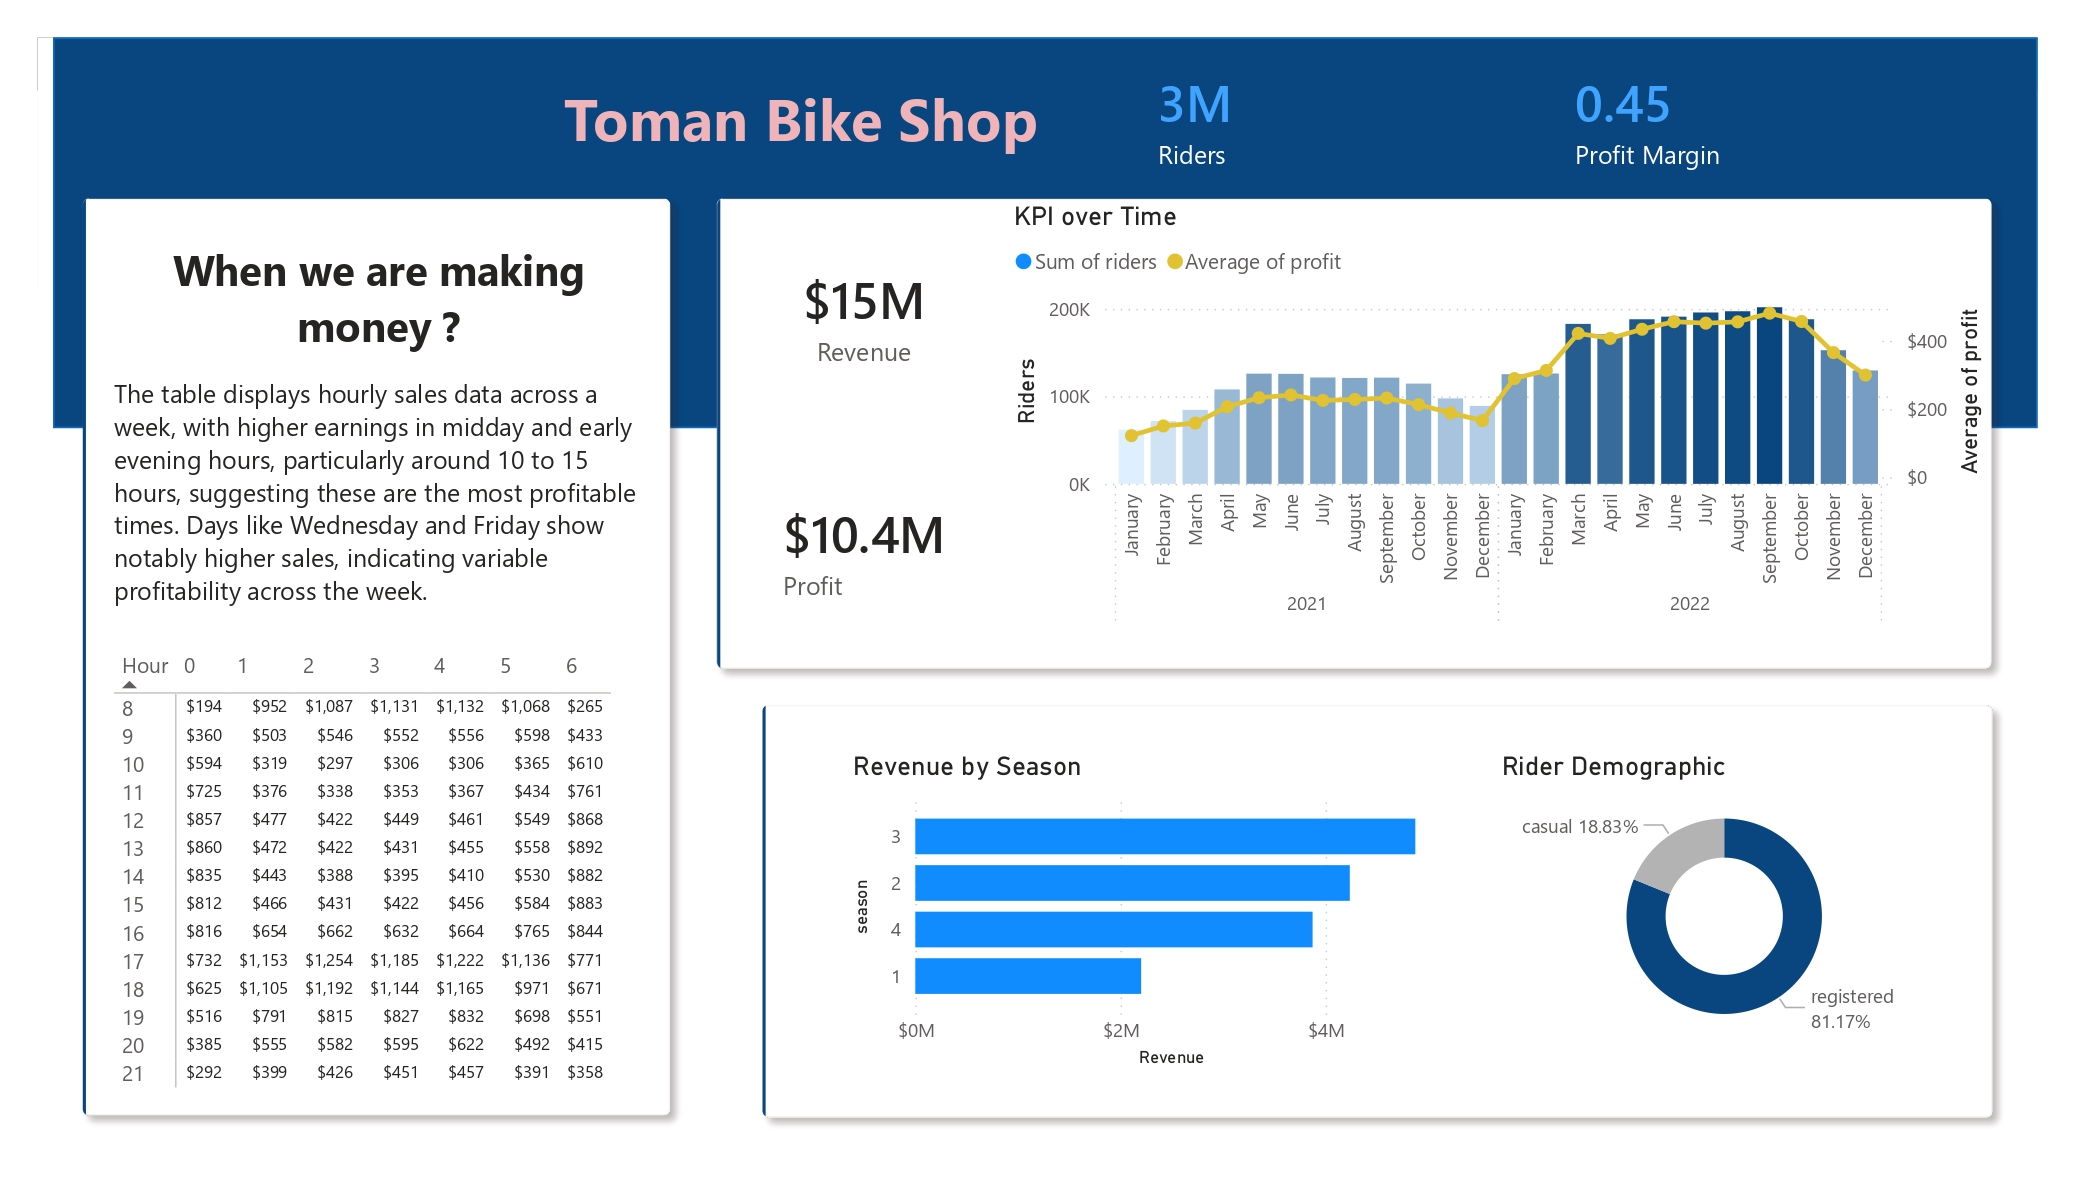

This screenshot's page, from the dashboard's own definition file:
{"tool":"powerbi","page":{"name":"Page 1","canvas":[1280,720],"ordinal":0},"visuals":[{"type":"shape","box":[9.6,0,1270.7,249.7],"z":0},{"type":"cardVisual","fields":{"Data":["Sum(Query1.riders)"]},"box":[0,74.1,434.7,645.7],"z":1000},{"type":"pivotTable","fields":{"Rows":["Query1.hr"],"Values":["Avg(Query1.revenue)"],"Columns":["Query1.weekday"]},"box":[43.9,388.3,349.9,290.9],"z":2000},{"type":"textbox","box":[44.2,125.4,349.2,86.9],"z":3000},{"type":"textbox","box":[44.2,212.4,347.8,175.3],"z":4000},{"type":"cardVisual","fields":{"Data":["Sum(Query1.riders)"]},"box":[434.7,397.7,845.3,322.1],"z":5000},{"type":"donutChart","title":"Rider Demographic","fields":{"Category":["Query1.rider_type"],"Y":["Sum(Query1.riders)"]},"box":[931.7,455.6,295,194.9],"z":6000},{"type":"cardVisual","fields":{"Data":["Sum(Query1.riders)"]},"box":[406.2,74.1,874.1,359.5],"z":7000},{"type":"clusteredBarChart","title":"Revenue by Season","fields":{"Y":["Sum(Query1.revenue)"],"Category":["Query1.season"]},"box":[517.3,455.6,389.7,208.6],"z":8000},{"type":"lineClusteredColumnComboChart","title":"KPI over Time","fields":{"Y":["Sum(Query1.riders)"],"Category":["Query1.dteday.Variation.Date Hierarchy.Year","Query1.dteday.Variation.Date Hierarchy.Month"],"Y2":["Avg(Query1.profit)"]},"box":[620.2,104.3,628.5,293.7],"z":9000},{"type":"cardVisual","fields":{"Data":["Sum(Query1.revenue)"]},"box":[447.6,104.1,162.5,149.7],"z":9001},{"type":"cardVisual","fields":{"Data":["Sum(Query1.profit)"]},"box":[448,254,172,149],"z":9002},{"type":"cardVisual","fields":{"Data":["Sum(Query1.riders)","Query1.Profit Margin"]},"box":[688.5,0,560.2,104.1],"z":9003},{"type":"textbox","box":[332.1,21.4,317.9,61.3],"z":9004}]}

Visuals, with their boxes on the page's 1280x720 design canvas (x1, y1, x2, y2). These are canvas units, not pixel positions in the 2075x1200 screenshot, which may show the page scaled, cropped or inside an application window:
shape: <region>10, 0, 1280, 250</region>
cardVisual - Sum(Query1.riders): <region>0, 74, 435, 720</region>
pivotTable - Query1.hr x Avg(Query1.revenue): <region>44, 388, 394, 679</region>
textbox: <region>44, 125, 393, 212</region>
textbox: <region>44, 212, 392, 388</region>
cardVisual - Sum(Query1.riders): <region>435, 398, 1280, 720</region>
"Rider Demographic" donutChart: <region>932, 456, 1227, 650</region>
cardVisual - Sum(Query1.riders): <region>406, 74, 1280, 434</region>
"Revenue by Season" clusteredBarChart: <region>517, 456, 907, 664</region>
"KPI over Time" lineClusteredColumnComboChart: <region>620, 104, 1249, 398</region>
cardVisual - Sum(Query1.revenue): <region>448, 104, 610, 254</region>
cardVisual - Sum(Query1.profit): <region>448, 254, 620, 403</region>
cardVisual - Sum(Query1.riders) x Query1.Profit Margin: <region>688, 0, 1249, 104</region>
textbox: <region>332, 21, 650, 83</region>
